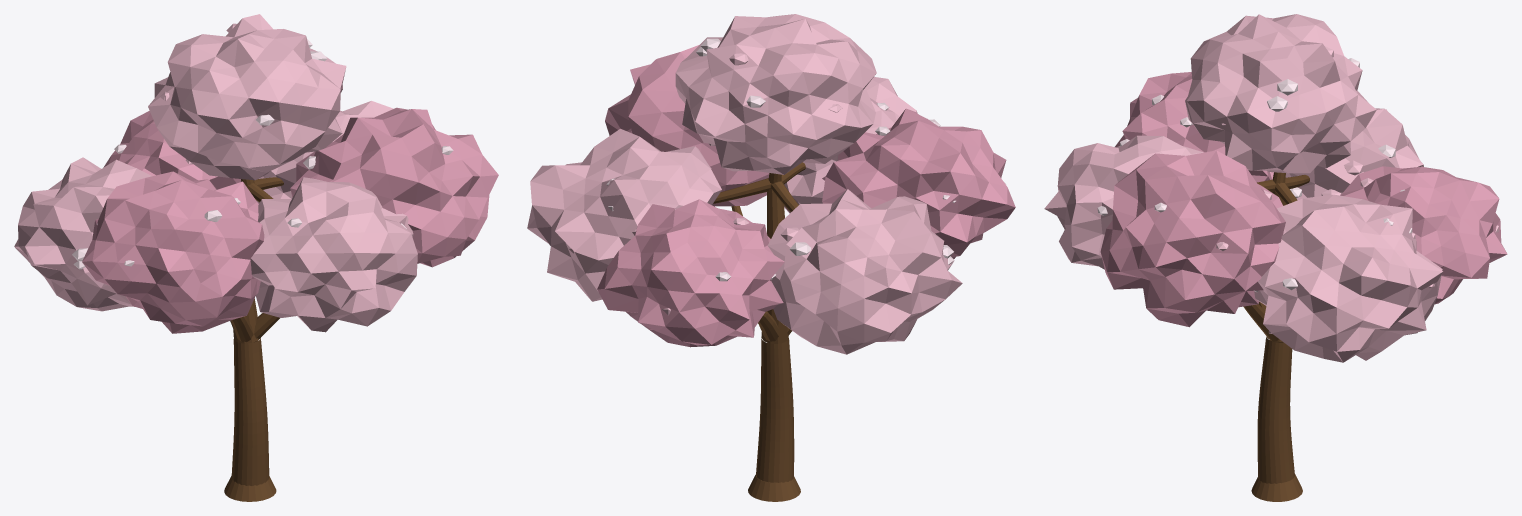
File: fruit-tree-b.glb
3 renders of one model, left to right at view 1: azimuth 30°, elevation 25°; view 2: azimuth 150°, elevation 25°; view 3: azimuth 270°, elevation 25°, orthographic.
Parts seen in each view (by area): view 1: Body_Leaves, Body_Leaves2, Body_Bark, Body_Blossom; view 2: Body_Leaves, Body_Leaves2, Body_Bark, Body_Blossom, Body_Blossom2; view 3: Body_Leaves, Body_Leaves2, Body_Bark, Body_Blossom, Body_Blossom2.
Part boxes in pixels (bbox=[...]): Body_Leaves: bbox=[14, 14, 417, 332]; Body_Leaves2: bbox=[82, 107, 498, 333]; Body_Bark: bbox=[224, 177, 283, 501]; Body_Blossom: bbox=[72, 39, 453, 269]; Body_Leaves: bbox=[527, 14, 962, 354]; Body_Leaves2: bbox=[597, 45, 1015, 347]; Body_Bark: bbox=[713, 162, 805, 501]; Body_Blossom: bbox=[606, 38, 1006, 281]; Body_Blossom2: bbox=[569, 53, 842, 315]; Body_Leaves: bbox=[1044, 14, 1442, 362]; Body_Leaves2: bbox=[1100, 72, 1507, 327]; Body_Bark: bbox=[1243, 172, 1309, 501]; Body_Blossom: bbox=[1097, 58, 1412, 292]; Body_Blossom2: bbox=[1216, 46, 1498, 287].
Size of the model in its own units: 4.5 by 5 by 4.5.
